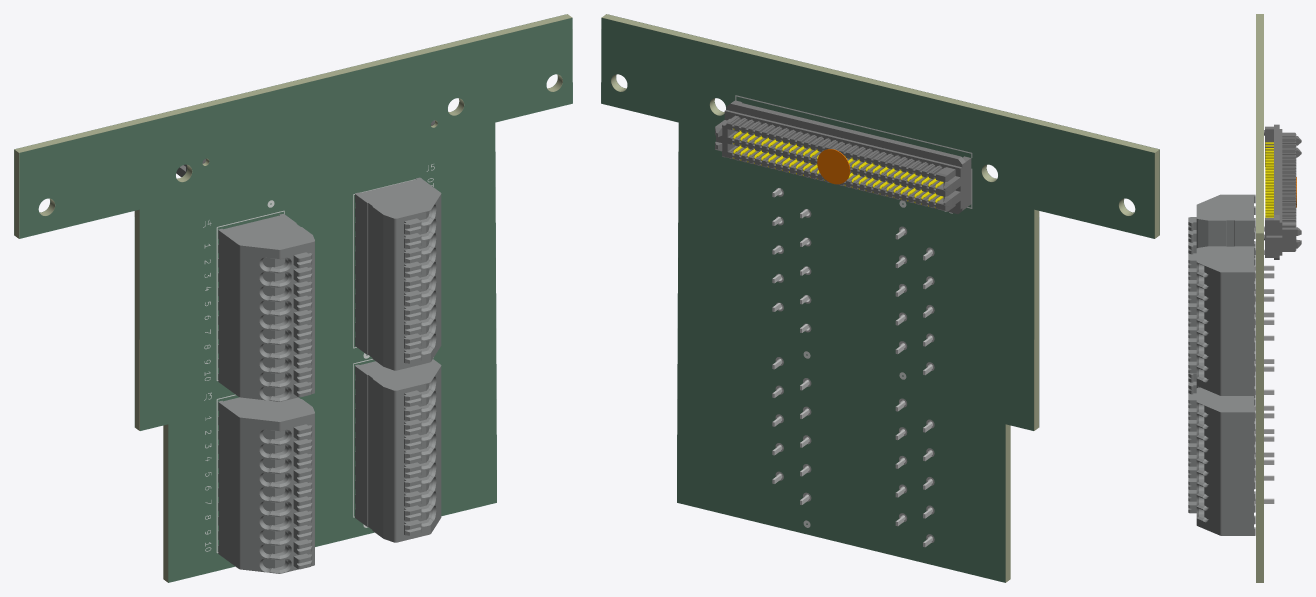
File: autopronano.glb
The picture shows the model from 3 angles, left to right: view 1: azimuth 30°, elevation 25°; view 2: azimuth 150°, elevation 25°; view 3: azimuth 270°, elevation 25°; orthographic projection. The views are drawn at different scales.
Parts seen in each view (by area): view 1: =>[0:1:1:15], =>[0:1:1:13], =>[0:1:1:3] (×4), =>[0:1:1:11]; view 2: =>[0:1:1:15], =>[0:1:1:14], SEAM-30-03.5-L-05-1-A-K-TR_BODY, SEAM-30-03.5-L-05-1-A-K-TR_CONN, =>[0:1:1:10], SEAM_K_Pad_05, =>[0:1:1:12]; view 3: =>[0:1:1:3] (×4), =>[0:1:1:15], SEAM-30-03.5-L-05-1-A-K-TR_BODY, SEAM-30-03.5-L-05-1-A-K-TR_CONN.
Boxes of the visible parts, box(x1,y1,x2,y2) form: =>[0:1:1:15]: box(14, 14, 572, 582); =>[0:1:1:13]: box(19, 18, 572, 582); =>[0:1:1:3] (×4): box(218, 177, 441, 573); =>[0:1:1:11]: box(203, 164, 434, 553); =>[0:1:1:15]: box(601, 14, 1159, 582); =>[0:1:1:14]: box(601, 18, 1154, 582); SEAM-30-03.5-L-05-1-A-K-TR_BODY: box(715, 100, 971, 213); SEAM-30-03.5-L-05-1-A-K-TR_CONN: box(733, 128, 943, 207); =>[0:1:1:10]: box(775, 188, 934, 542); SEAM_K_Pad_05: box(817, 149, 850, 184); =>[0:1:1:12]: box(735, 95, 972, 527); =>[0:1:1:3] (×4): box(1188, 194, 1274, 535); =>[0:1:1:15]: box(1256, 14, 1263, 582); SEAM-30-03.5-L-05-1-A-K-TR_BODY: box(1264, 124, 1301, 259); SEAM-30-03.5-L-05-1-A-K-TR_CONN: box(1265, 142, 1273, 217).
Size of the model in its own units: 0.1011 by 0.0814 by 0.022.
